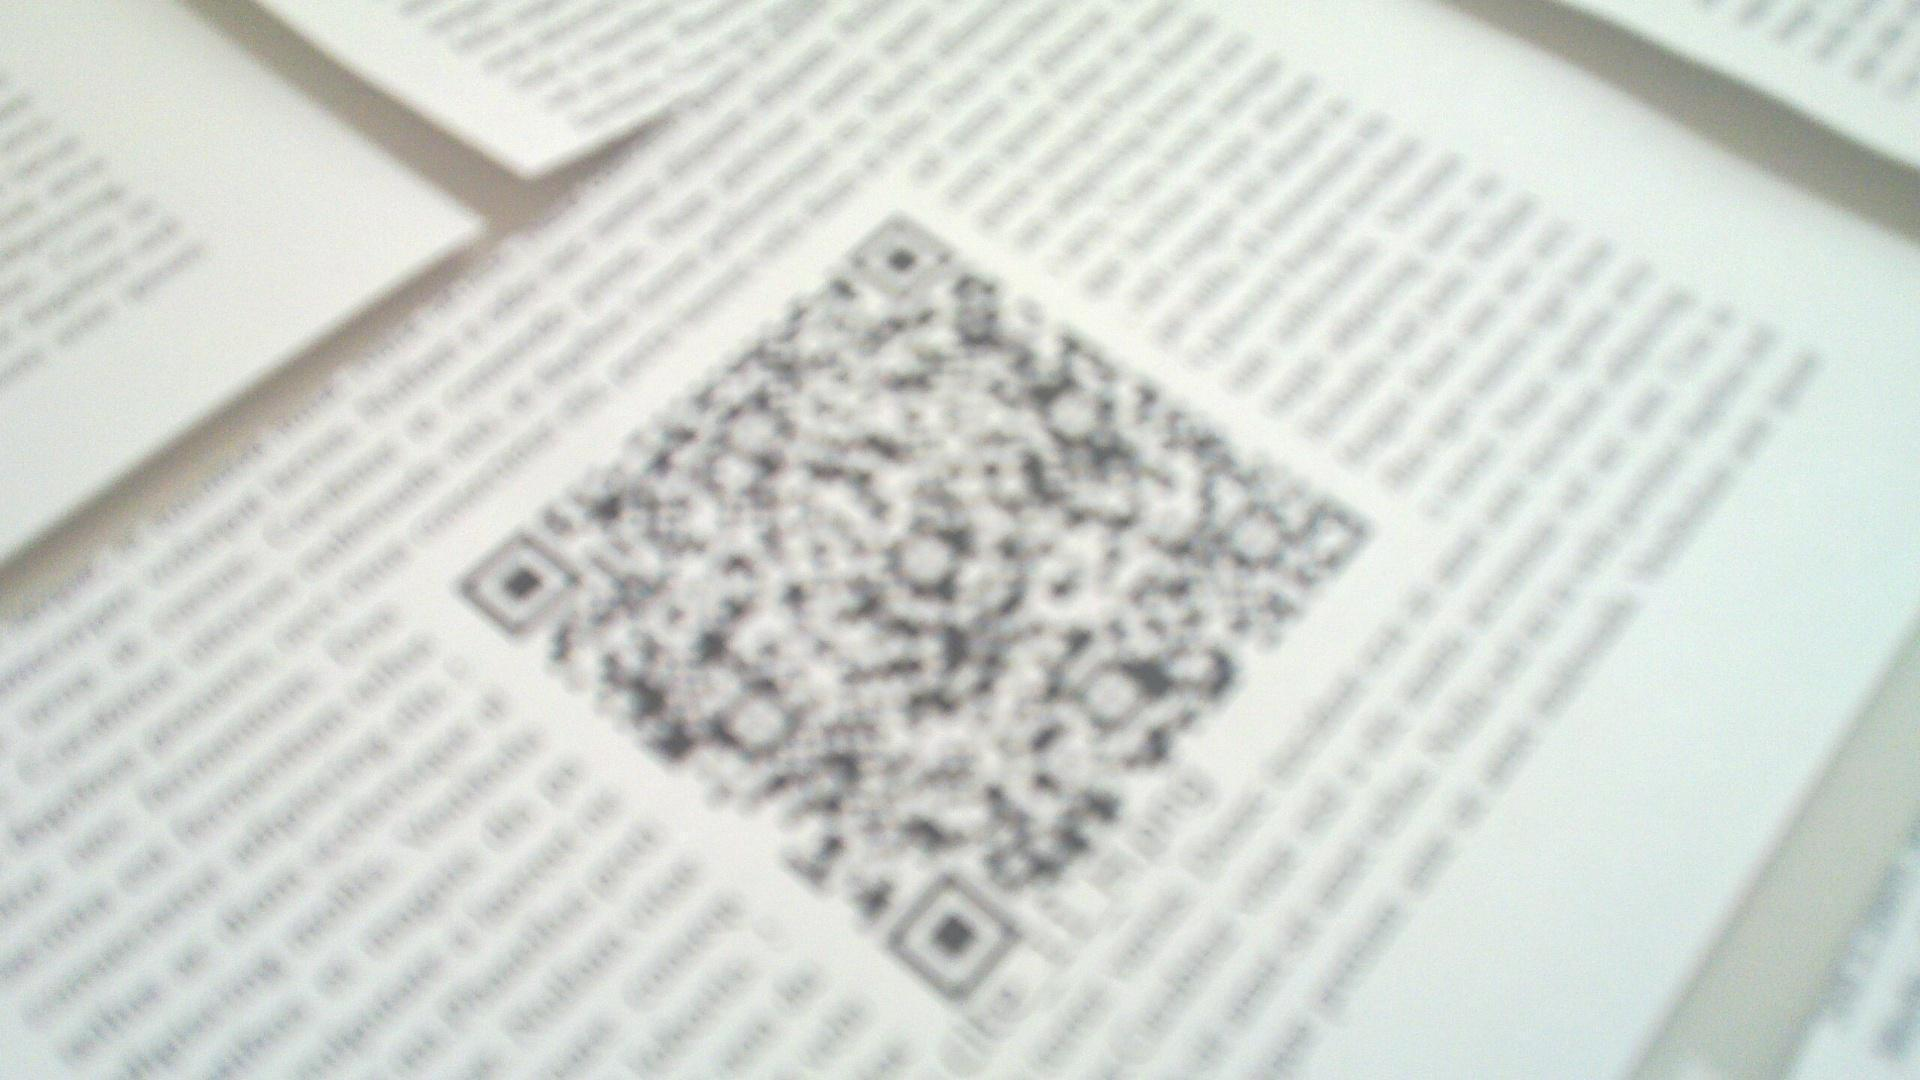qr_code: (455, 211, 1377, 1004)
